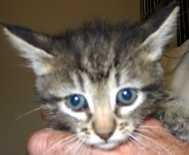Cat: (4, 3, 181, 148)
